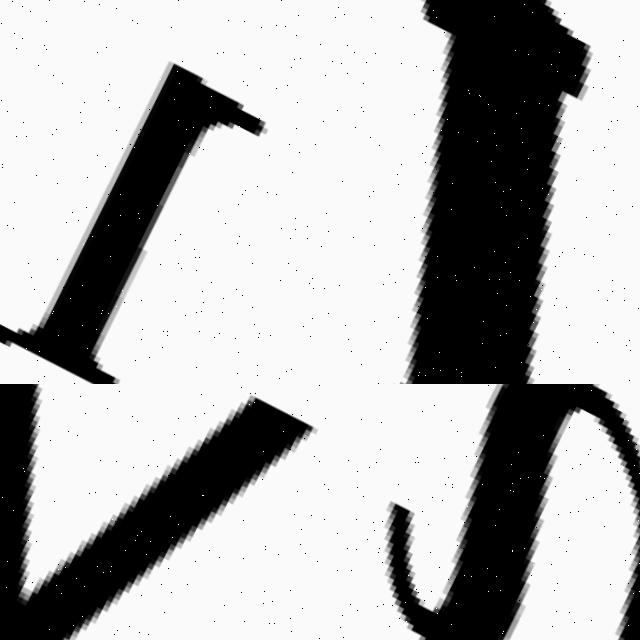H: (379, 384, 640, 640)
I: (0, 0, 345, 384)
T: (345, 0, 640, 384)
Y: (0, 384, 345, 640)
